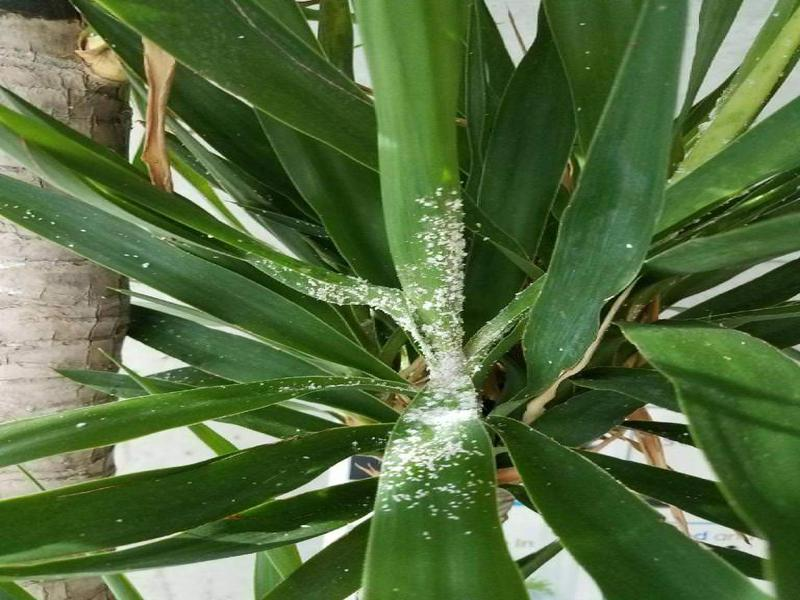Mealy_bug: (345, 190, 507, 511)
